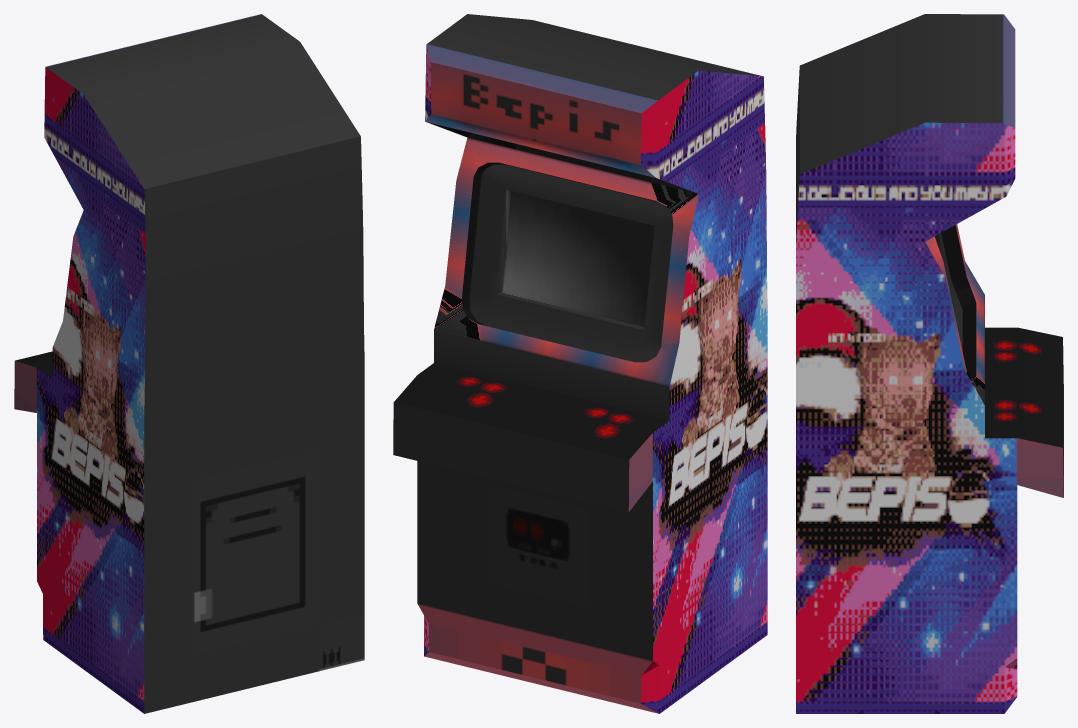
The model's file is arcademachines.fbx.
3 views of the same model, side by side, from view 1: azimuth 30°, elevation 25°; view 2: azimuth 150°, elevation 25°; view 3: azimuth 270°, elevation 25° (orthographic). The views are drawn at different scales.
Parts seen in each view (by area): view 1: pCube1; view 2: pCube1; view 3: pCube1.
Boxes of the visible parts, x1,y1,x2,y2 form: pCube1: (14, 14, 364, 713); pCube1: (393, 14, 767, 713); pCube1: (796, 14, 1063, 713).
Bounding box in the file's own units: 3.25 × 8.07 × 3.32.
Materials: 1 (1 with a texture image).
